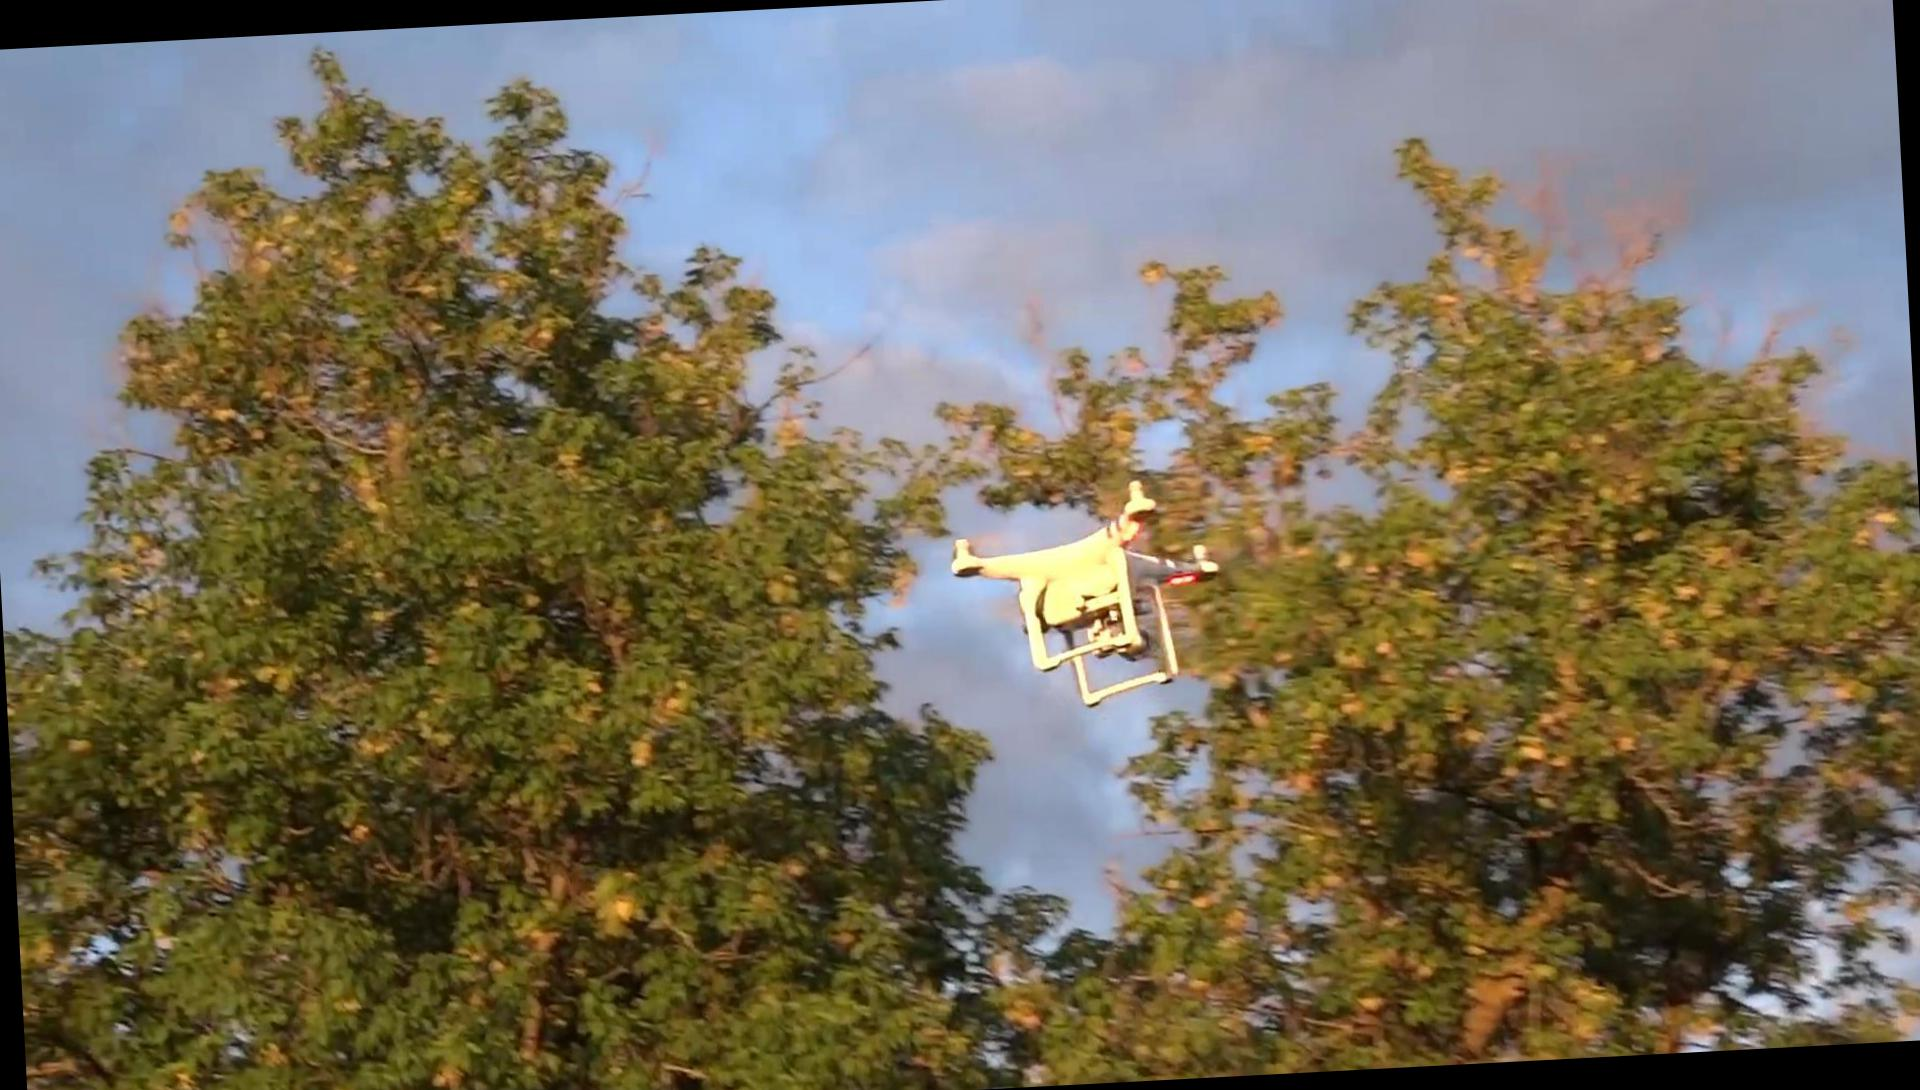drone: (935, 472, 1230, 714)
